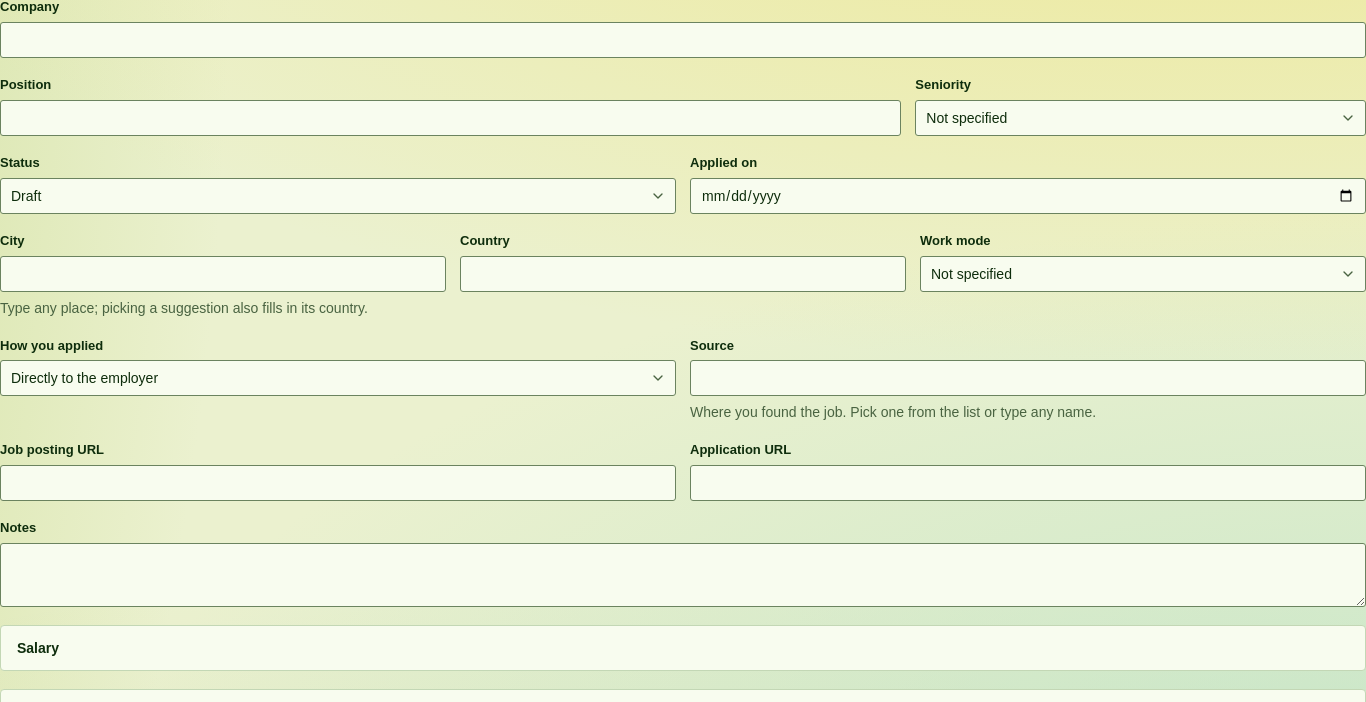
ApplicationForm › keeps the input and reports a failed save
Type "Acme" into the field labelled "Company" at (683, 40), box [0,22,1365,58]
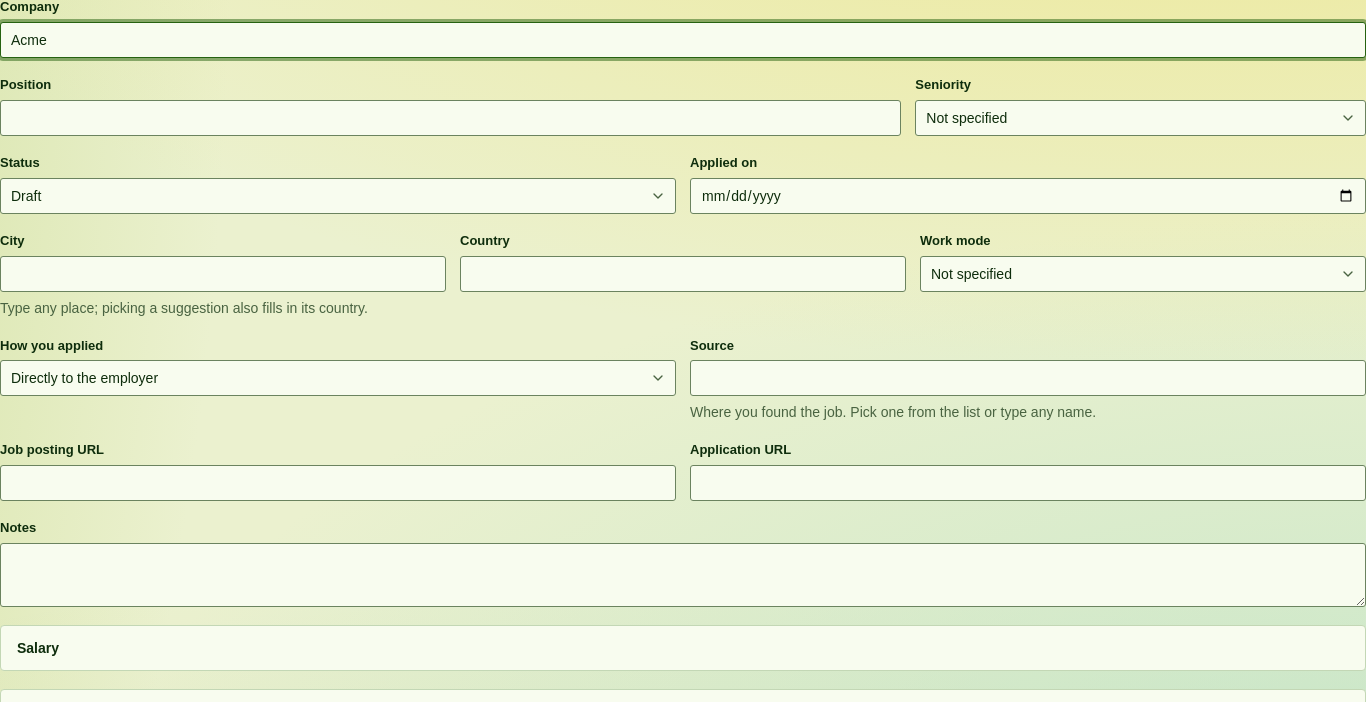
Type "Engineer" into the field labelled "Position" at (451, 118), box [0,100,901,136]
(page scrolled)
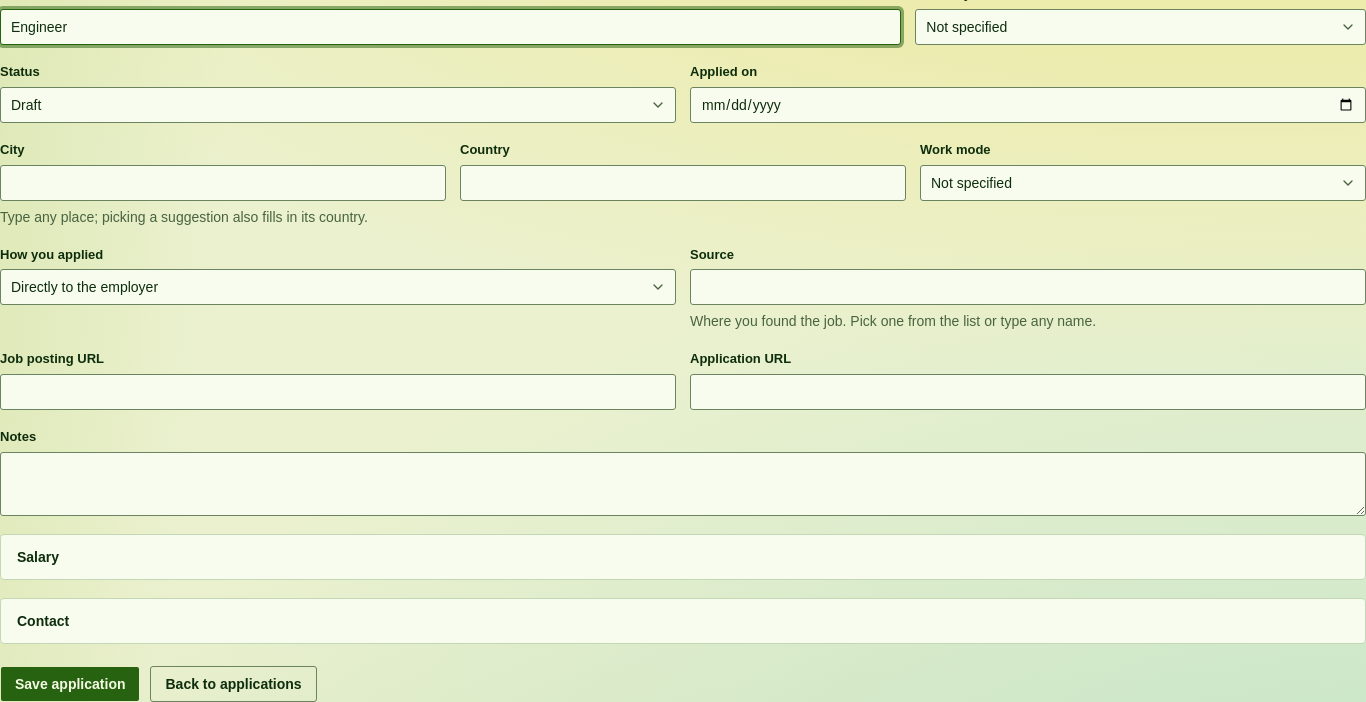
Click the button "Save application" at (70, 684), box [0,666,140,701]
(page scrolled)
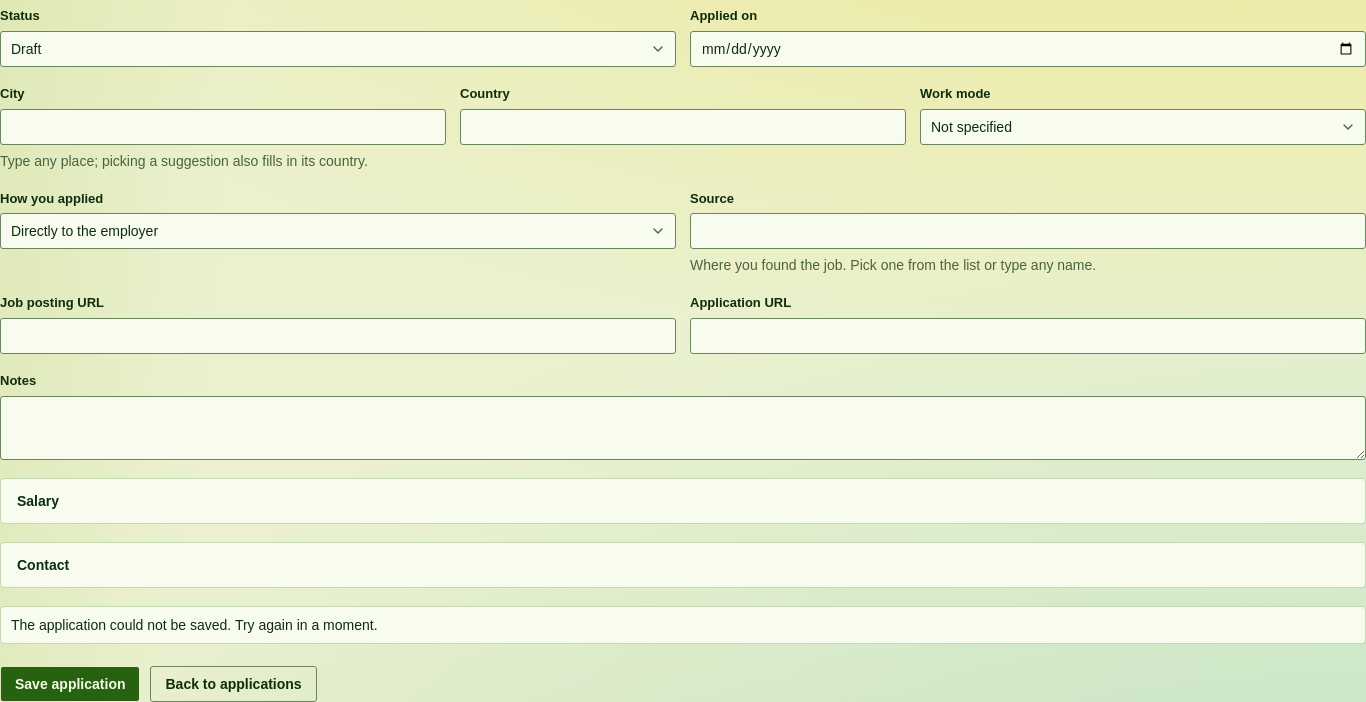
Expected: the text "The application could not be saved. Try again in a moment." is shown, [11,617,378,633]
